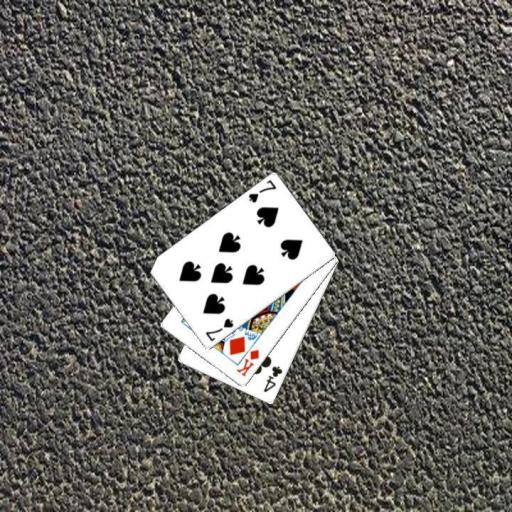card-corner: (202, 315, 235, 343), (245, 177, 278, 205), (233, 346, 261, 378), (260, 363, 284, 394)
